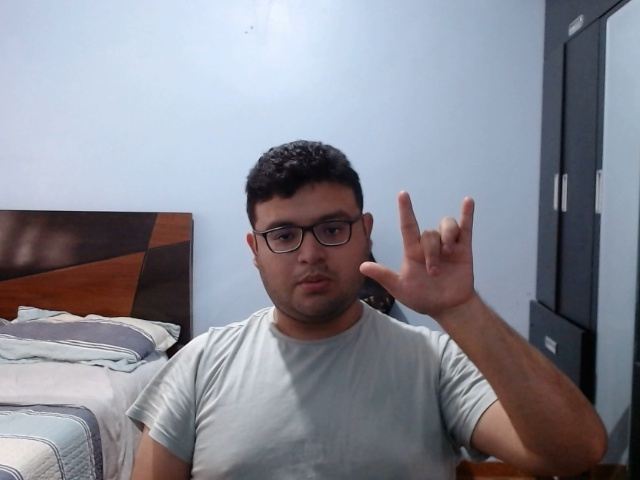I love you: (357, 186, 480, 321)
